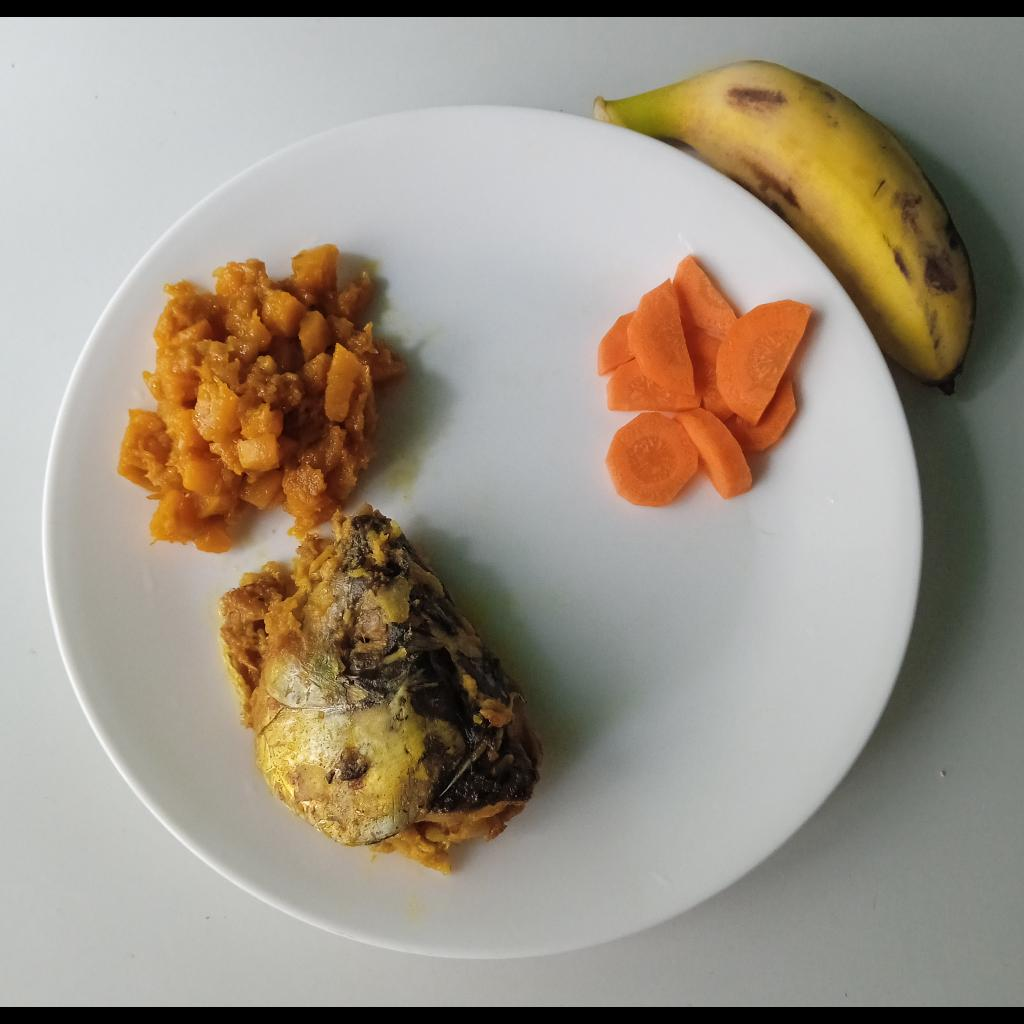banana: (594, 61, 979, 399)
carrot: (591, 255, 816, 511)
fish: (216, 504, 550, 877)
kumra-vaji: (114, 243, 412, 556)
